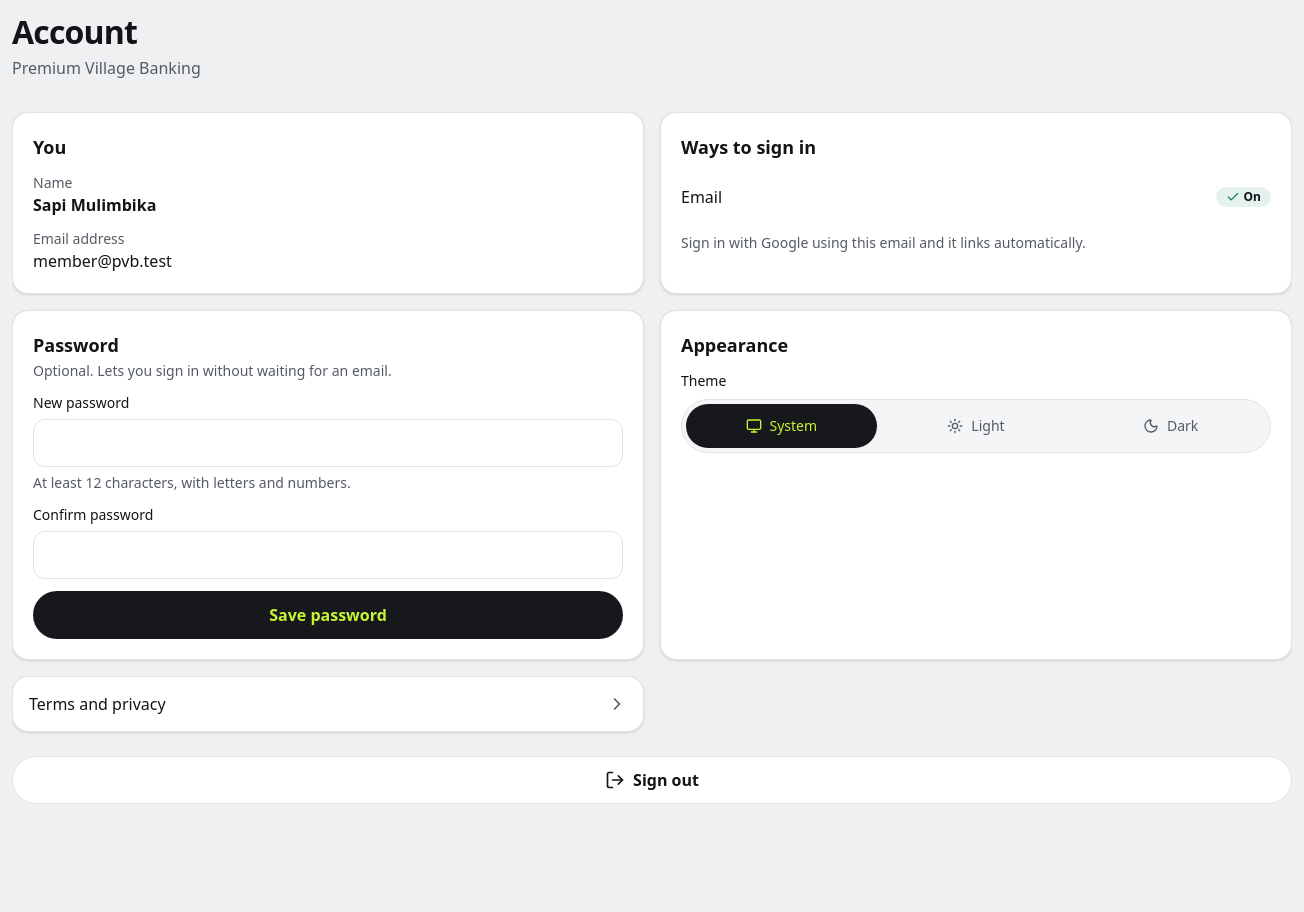
Test: when the code email cannot be sent, the form stays and says why
Type "village2027bank" into the password field labelled "New password".
click(328, 443); type("village2027bank")  # box [33,419,623,467]
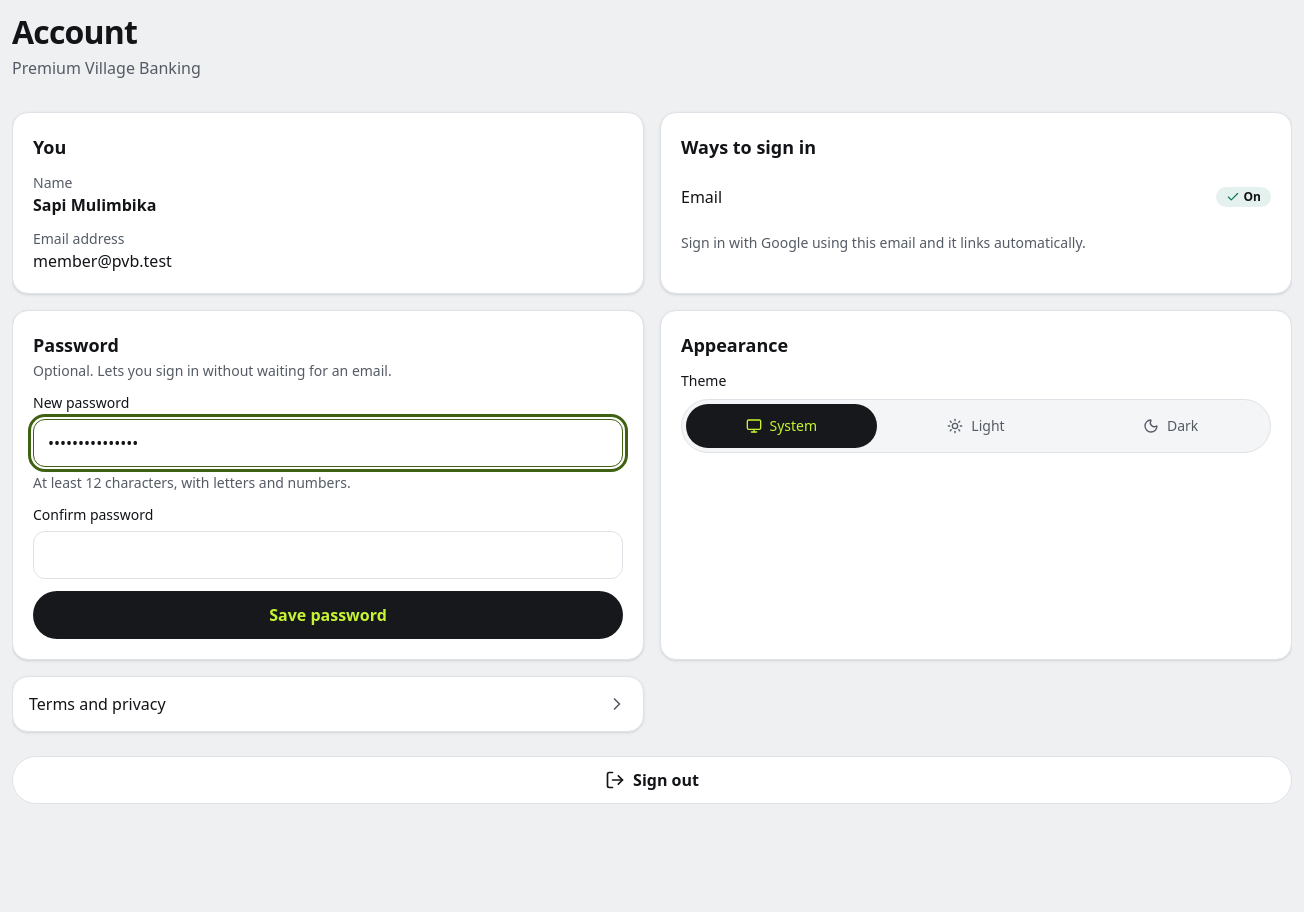
Type "village2027bank" into the password field labelled "Confirm password".
click(328, 555); type("village2027bank")  # box [33,531,623,579]
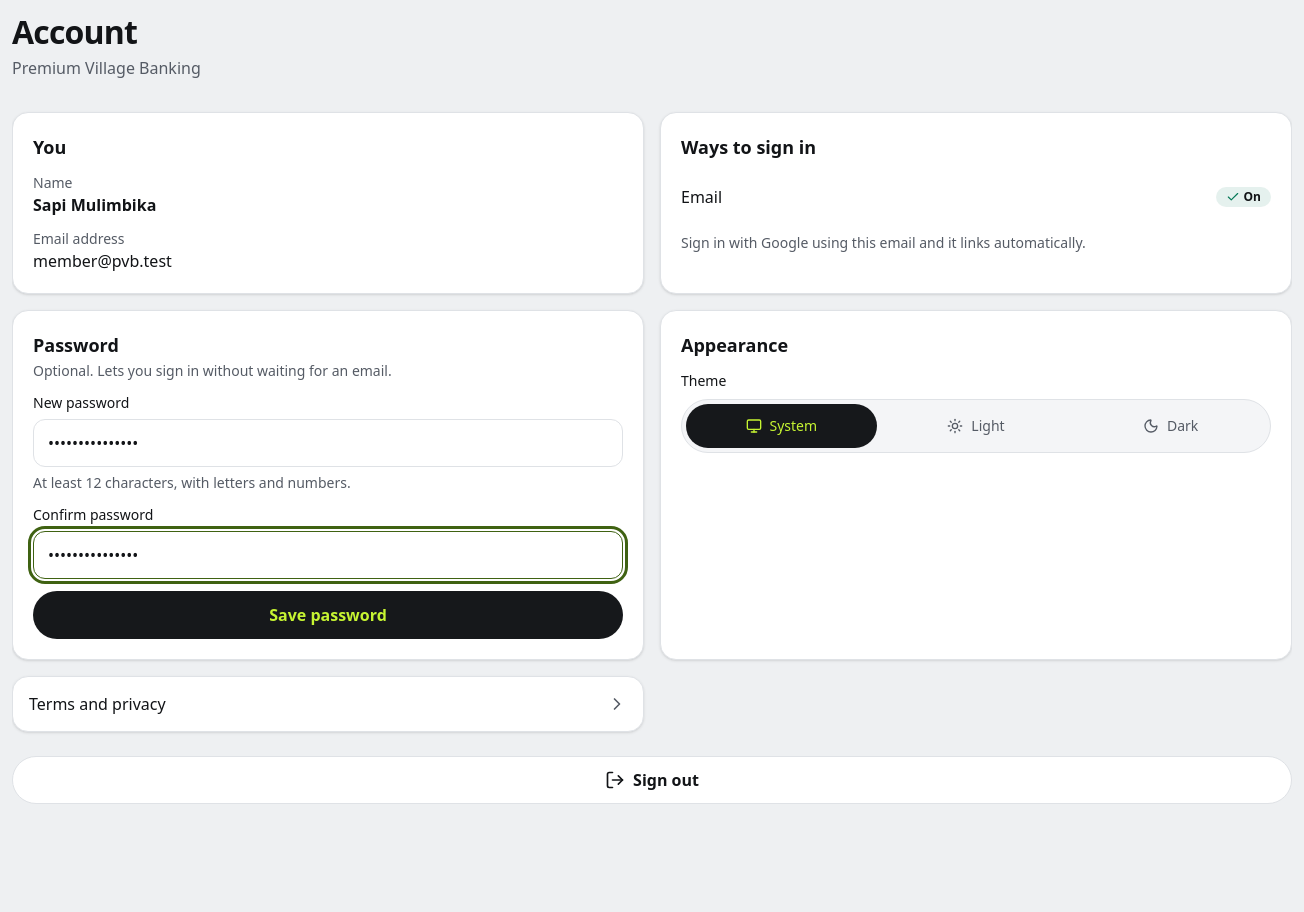
Click the button "Save password".
click(328, 615)  # box [33,591,623,639]
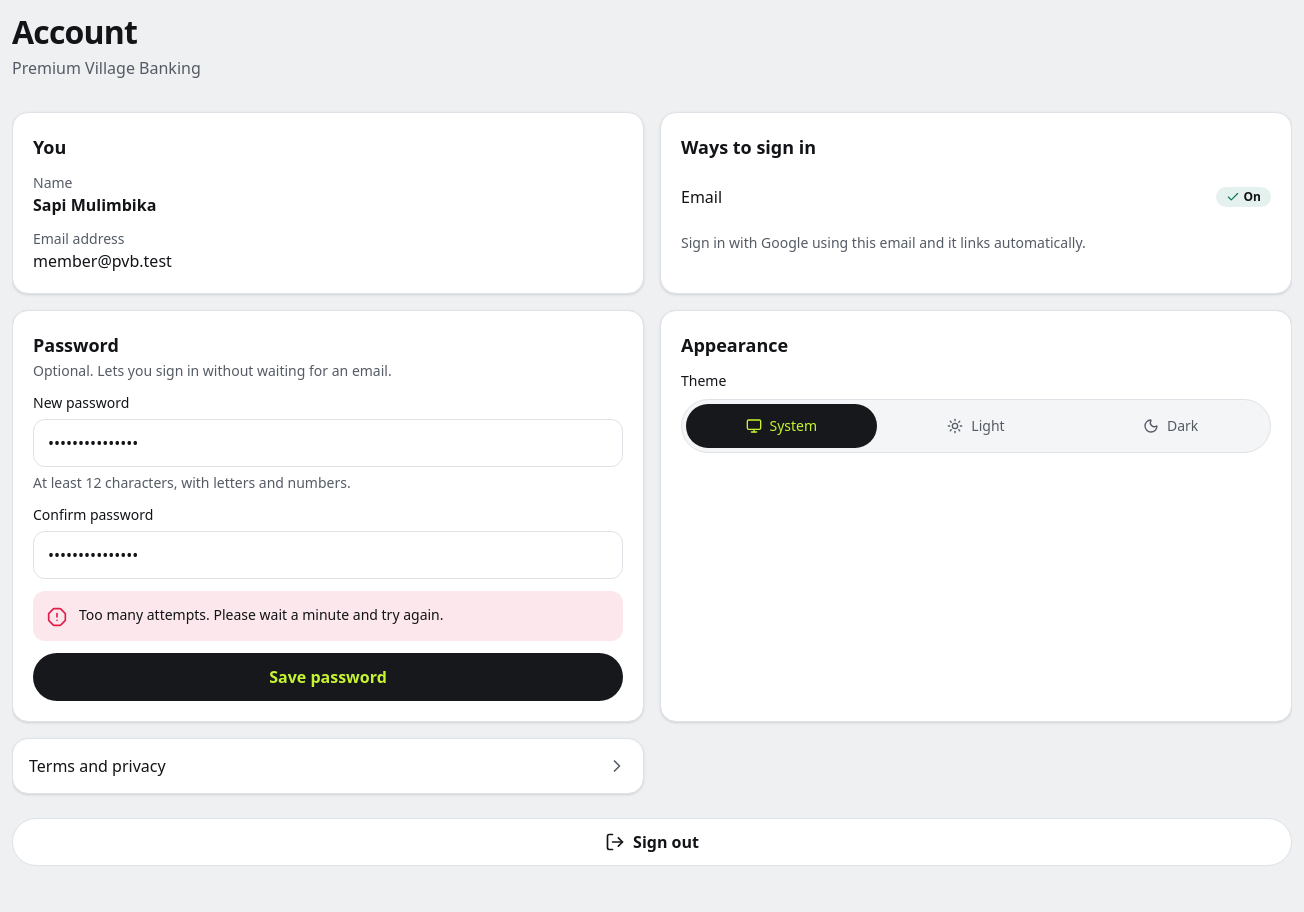
Expected: the text "Too many attempts. Please wait a minute and try again." is shown, [79,605,444,624]
